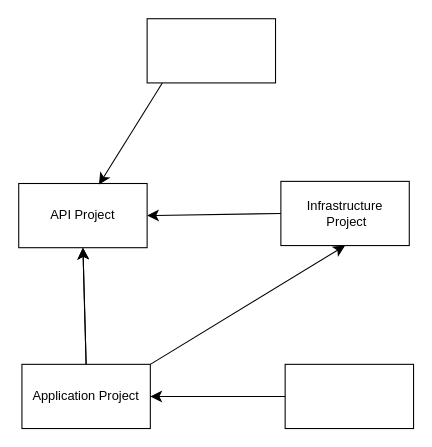
The diagram is 432 pixels wide and 447 high, and some of its shapes have lost their labels. Each missing label, with the centre of its shape:
Contracts Project: the point at 211,50
Domain Project: the point at 349,396
